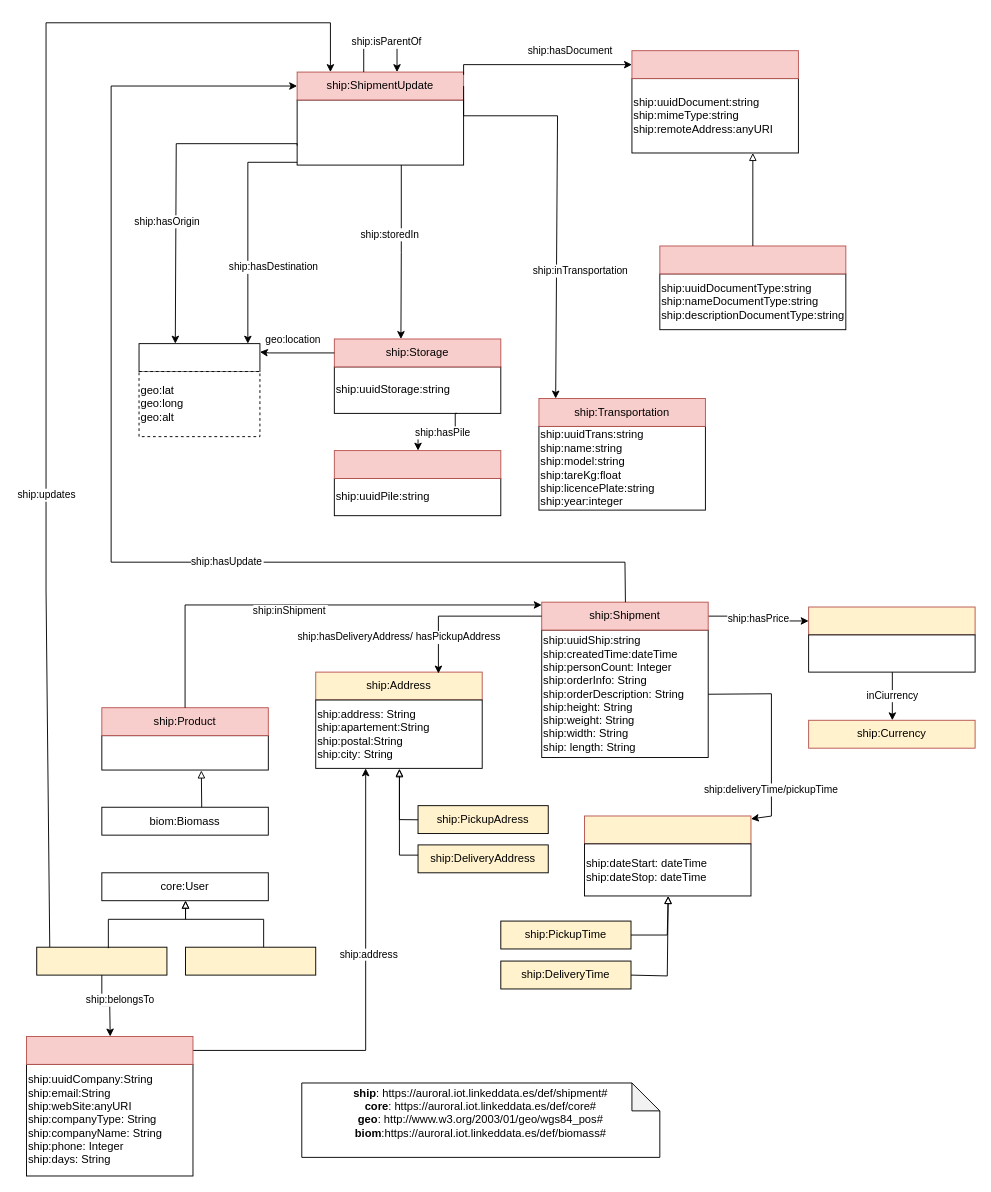
Image size: 991x1192. Some labels were removed from this diagram. The centre of each missing label's shape, as x and y in pixels:
geo:Point: the point at 199,357
ship:amount: the point at 891,653
ship:DeliveryPickupTime: the point at 667,829
ship:Document: the point at 714,64
ship:DocumentType: the point at 752,259
ship:LogisticCompany: the point at 109,1050
ship:Price: the point at 891,620
ship:Receiver: the point at 250,960
ship:Sender: the point at 101,960
ship:StoragePile: the point at 417,464
ship:uuidProduct: String: the point at 184,752
ship:uuidShipUpdate:string ship:timeUpdate:dateTime ship:hasType:string: the point at 380,132
